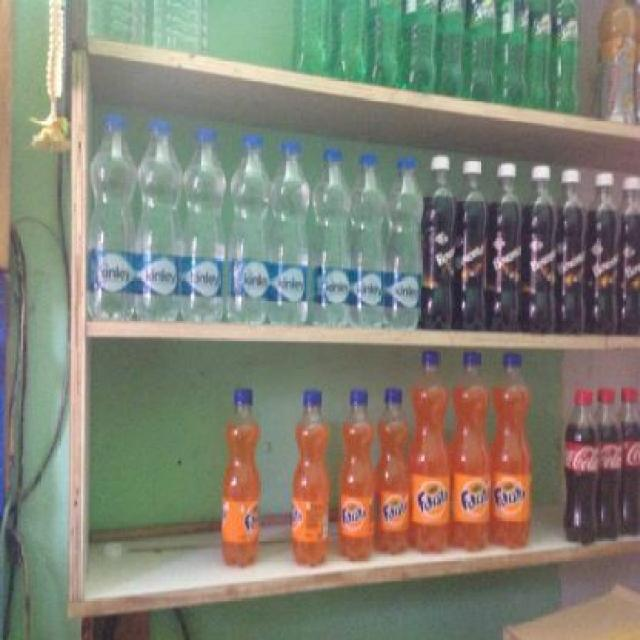Drinks: (449, 352, 491, 550), (490, 351, 532, 549), (410, 352, 450, 554), (220, 388, 260, 568), (338, 388, 377, 562), (292, 388, 328, 568), (378, 389, 410, 556), (564, 389, 598, 545), (599, 387, 623, 541), (498, 0, 528, 105), (553, 0, 581, 109), (466, 0, 497, 95), (439, 1, 466, 97), (529, 0, 553, 106)
